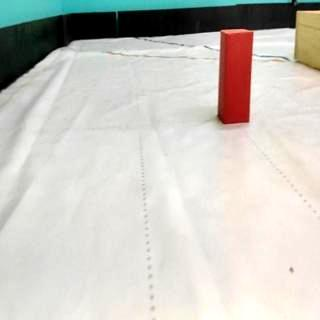redbox: (218, 28, 254, 124)
